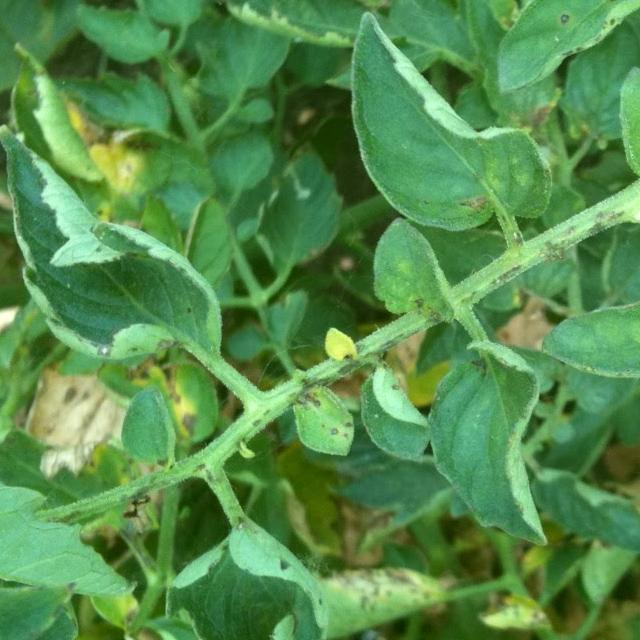Tomato leaf bacterial spot: (0, 109, 271, 419), (333, 25, 560, 235), (511, 270, 640, 411), (486, 0, 640, 97), (265, 376, 365, 475)
